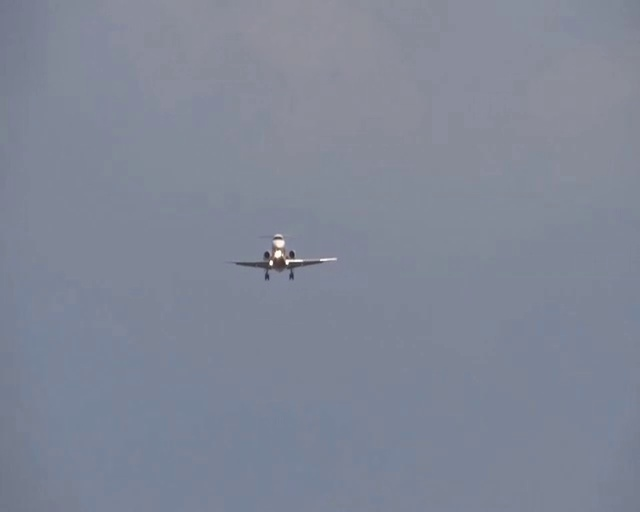AIRPLANE: (226, 233, 337, 281)
